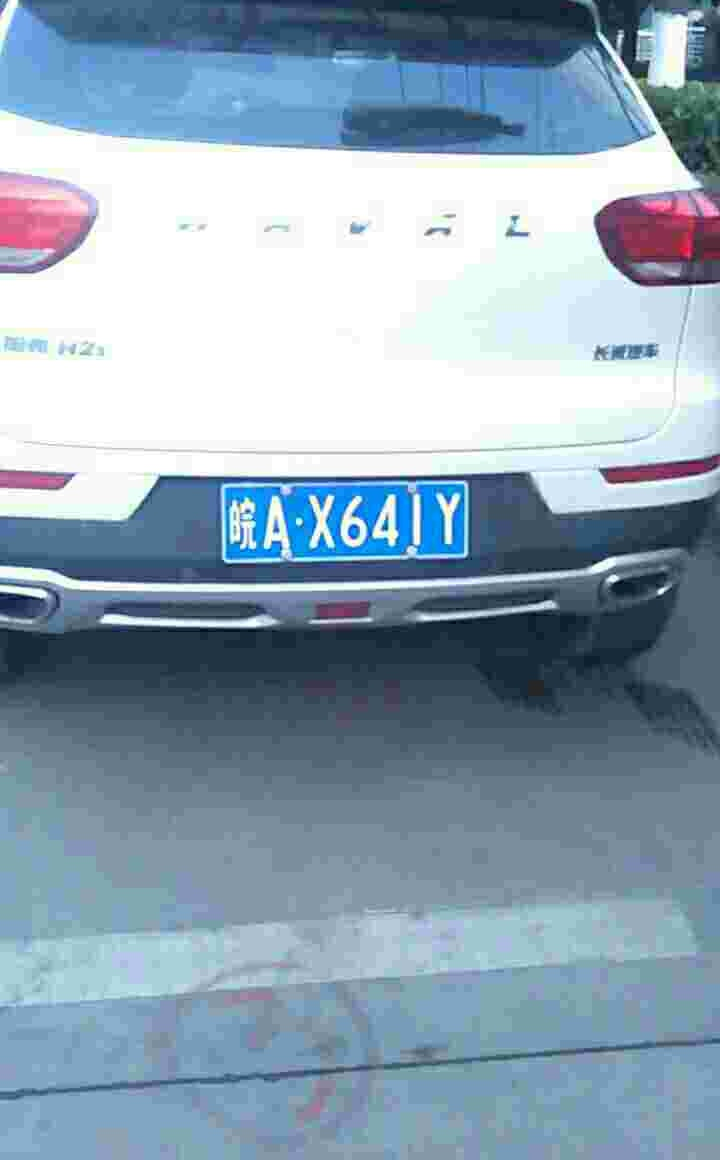plate: (226, 476, 476, 566)
